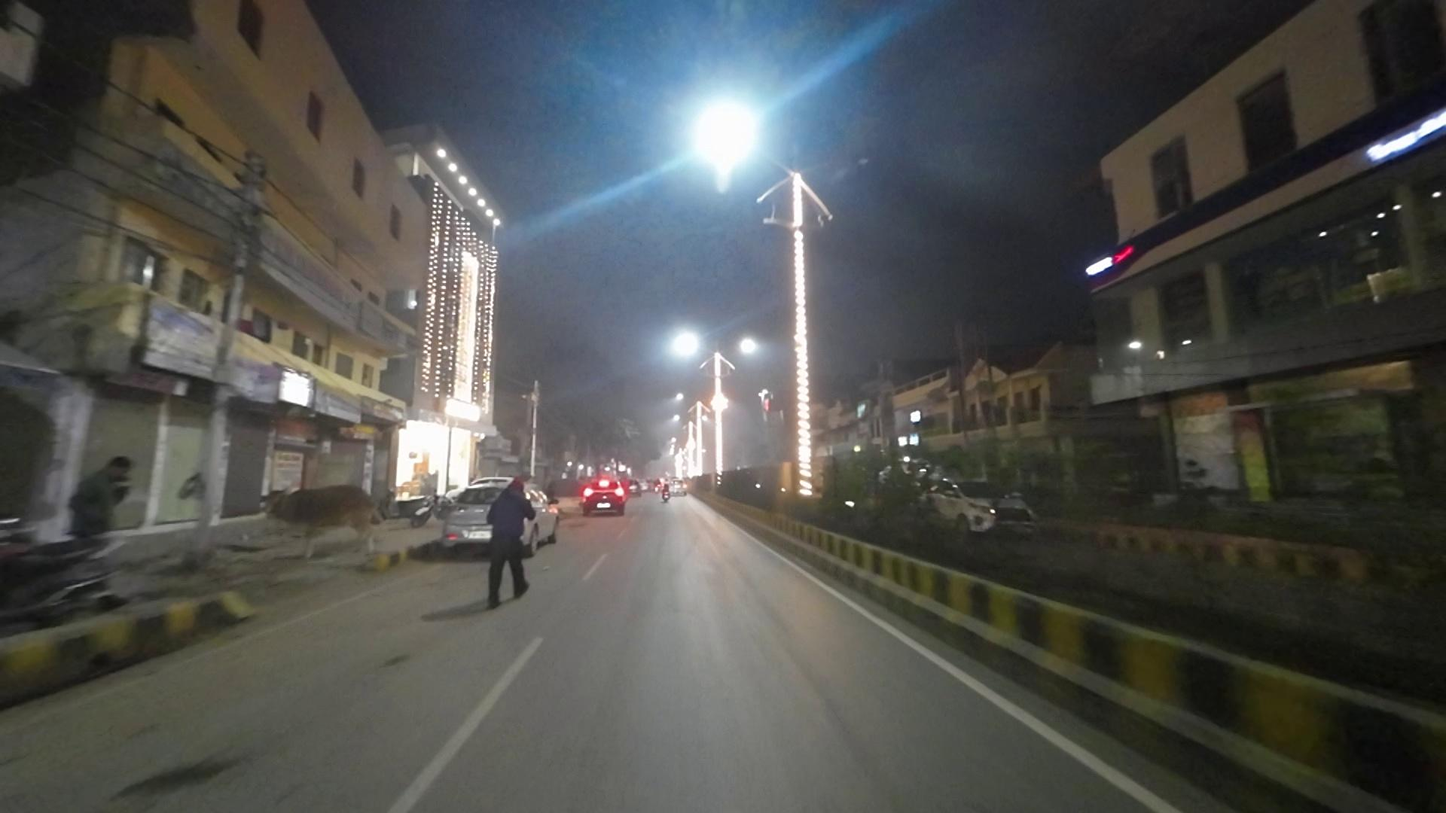streetlight: (808, 152, 871, 177)
